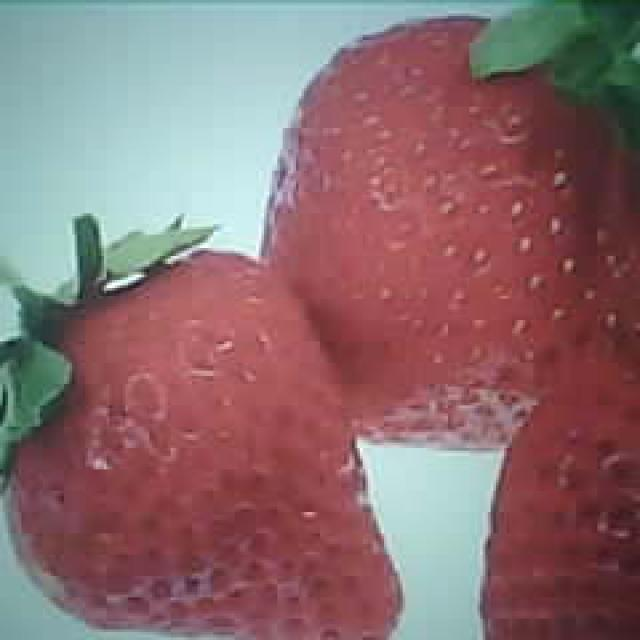strawberry: (258, 15, 640, 449), (6, 252, 406, 640)
